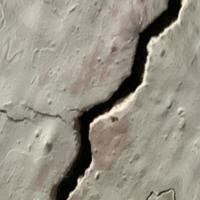crack: (43, 0, 199, 199)
